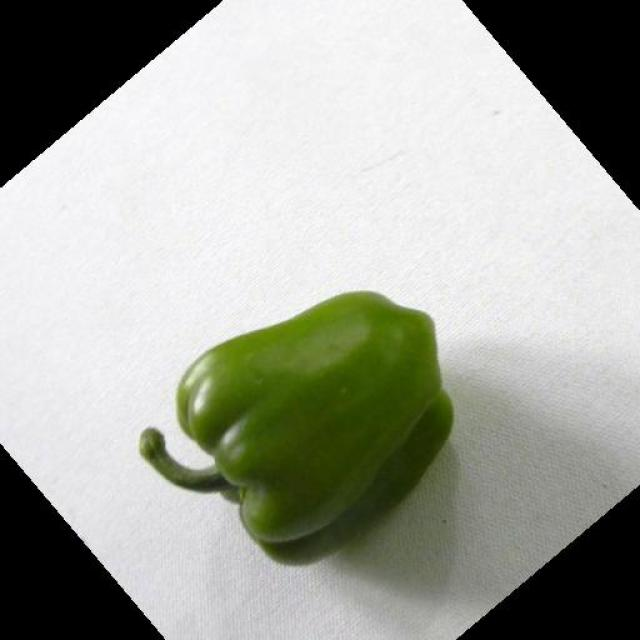Fresh_Capsicum: (126, 317, 434, 561)
